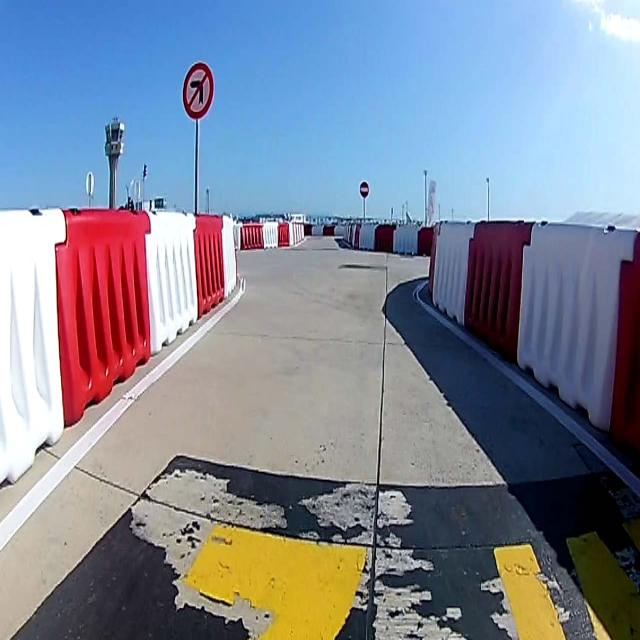soladonulmez: (182, 61, 215, 119)
